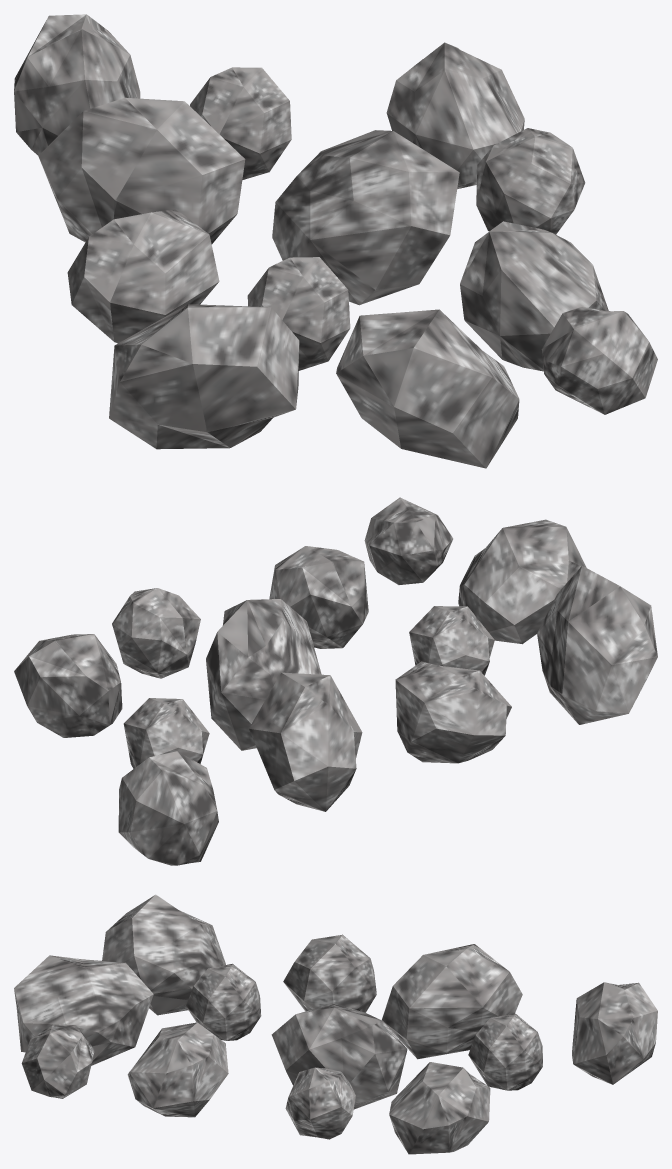
File: pebbles_v1.glb
3 views of the same model, one above another, from view 1: azimuth 30°, elevation 25°; view 2: azimuth 150°, elevation 25°; view 3: azimuth 270°, elevation 25° (orthographic). The views are drawn at different scales.
Visible parts, largest first — view 1: Sphere.013; view 2: Sphere.013; view 3: Sphere.013.
Part boxes in pixels (bbox=[...]): Sphere.013: bbox=[14, 14, 657, 468]; Sphere.013: bbox=[14, 497, 657, 865]; Sphere.013: bbox=[14, 894, 657, 1154].
Bounding box in the file's own units: 2.06 × 0.5701 × 2.85.
1 material, 1 textured.
